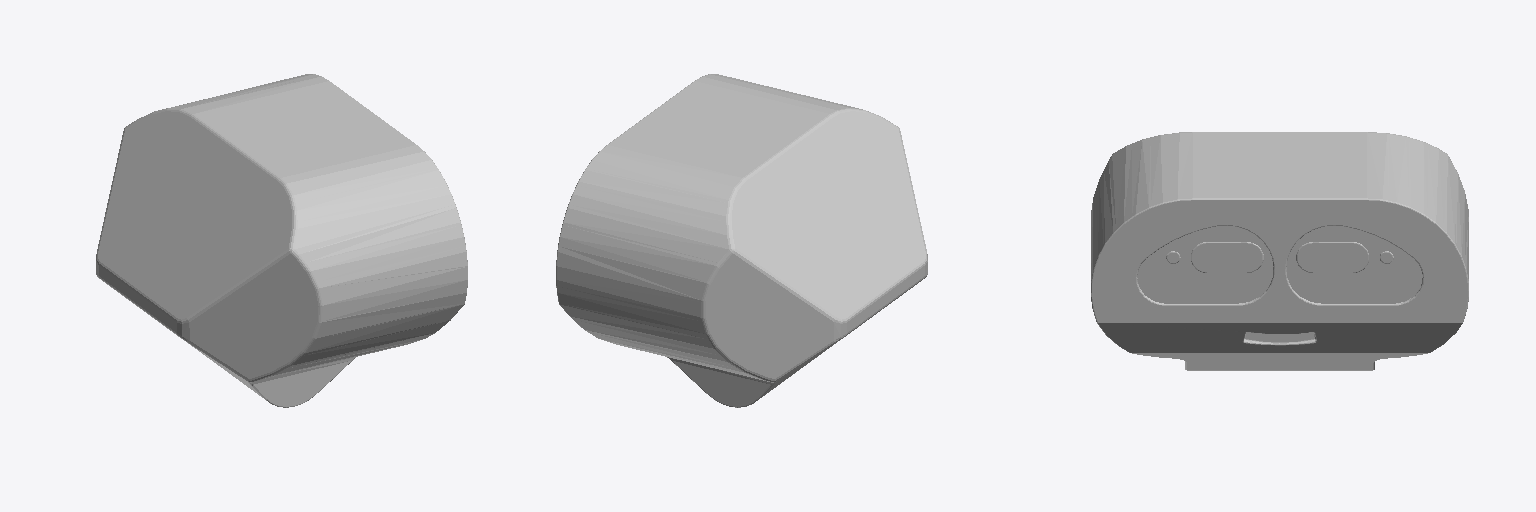
File: head_2.obj
3 views of the same model, side by side, from view 1: azimuth 30°, elevation 25°; view 2: azimuth 150°, elevation 25°; view 3: azimuth 270°, elevation 25° (orthographic).
Visible parts, largest first — view 1: head_2; view 2: head_2; view 3: head_2.
Part boxes in pixels (bbox=[...]): head_2: bbox=[96, 74, 467, 407]; head_2: bbox=[556, 74, 927, 407]; head_2: bbox=[1091, 132, 1468, 370].
Bounding box in the file's own units: 0.187 × 0.1734 × 0.2598.